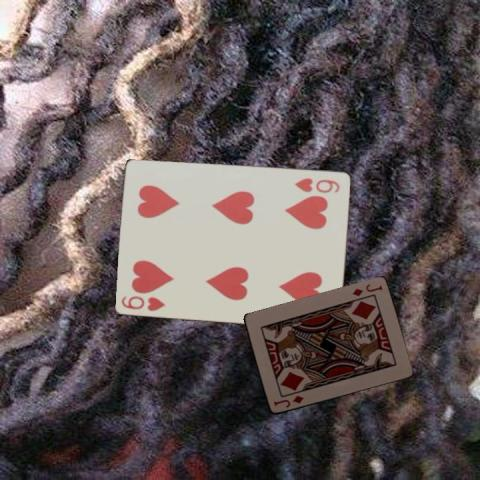6h: (292, 175, 341, 194), (118, 295, 166, 312)
Jd: (350, 281, 384, 298), (270, 393, 304, 409)
